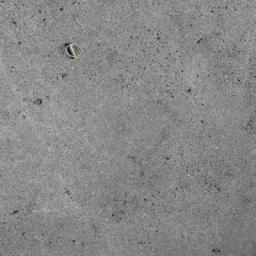FOD: (61, 39, 84, 63)
